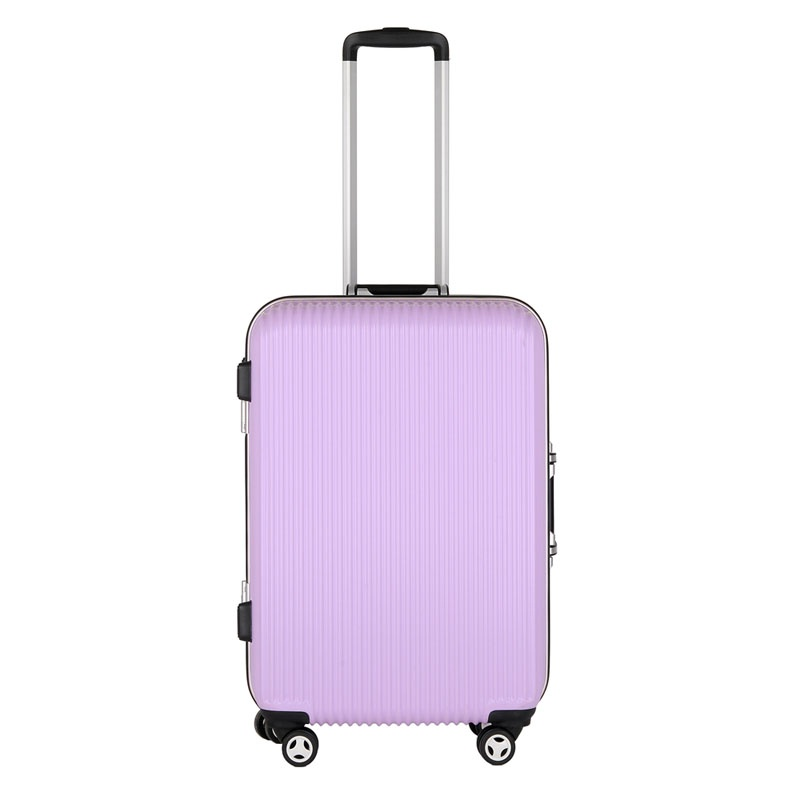luggage: (236, 24, 559, 766)
